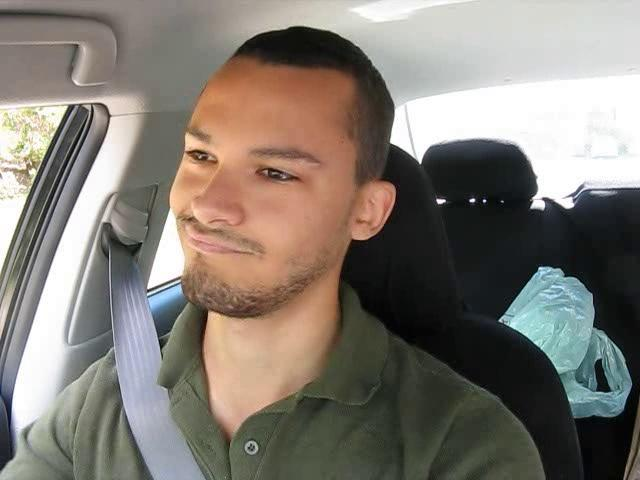no_yawn: (167, 222, 266, 268)
open_eyeL: (174, 139, 229, 176)
open_eyeR: (243, 151, 317, 197)
